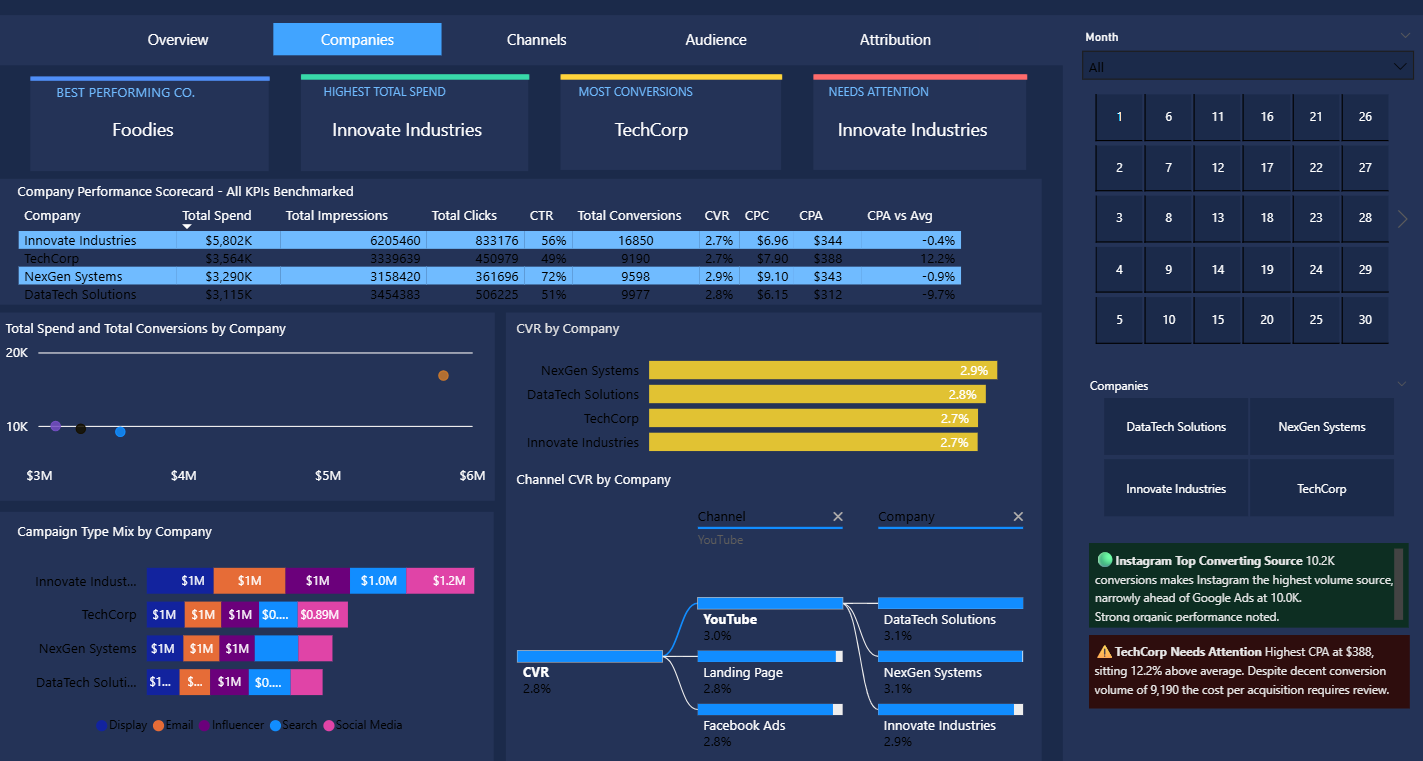

Layout of this report page (visuals, bound fields, positions):
{"tool":"powerbi","page":{"name":"Companies","canvas":[1280,720],"ordinal":1},"visuals":[{"type":"card","title":"BEST PERFORMING CO.","fields":{"Values":["CalcMeasures.Best Company CPA"]},"box":[46.7,104.1,165.2,71.8],"z":0},{"type":"card","title":"HIGHEST TOTAL SPEND","fields":{"Values":["CalcMeasures.Highest Spend Company"]},"box":[286.4,104.1,159.8,71.8],"z":1000},{"type":"card","title":"NEEDS ATTENTION","fields":{"Values":["CalcMeasures.Most Conversions Company"]},"box":[739.8,104.1,160.7,71.8],"z":2000},{"type":"card","title":"MOST CONVERSIONS","fields":{"Values":["CalcMeasures.Worst Company CPA"]},"box":[515.3,104.1,140.9,71.8],"z":3000},{"type":"tableEx","title":"Company Performance Scorecard - All KPIs Benchmarked","fields":{"Values":["Dim_Company.Company","CalcMeasures.Total Spend","CalcMeasures.Total Impressions","CalcMeasures.Total Clicks","CalcMeasures.CTR","CalcMeasures.Total Conversions","CalcMeasures.CVR","CalcMeasures.CPC","CalcMeasures.CPA","CalcMeasures.CPA vs Avg"]},"box":[11.7,193,869,115.8],"z":4000},{"type":"barChart","fields":{"Y":["CalcMeasures.CVR"],"Category":["Dim_Company.Company"]},"box":[459.7,316,473.1,132.9],"z":5000},{"type":"scatterChart","fields":{"X":["CalcMeasures.Total Spend"],"Y":["CalcMeasures.Total Conversions"],"Category":["Dim_Company.Company"]},"box":[0.9,316,440.8,158.9],"z":6000},{"type":"barChart","title":"Campaign Type Mix by Company","fields":{"Category":["Dim_Company.Company"],"Series":["Dim_CampaignType.Campaign_Type"],"Y":["CalcMeasures.Total Spend"]},"box":[11.7,498.3,430,200.2],"z":7000},{"type":"slicer","fields":{"Values":["Date_Dim.Day"]},"box":[962.4,111.3,317.8,248.7],"z":8000},{"type":"slicer","fields":{"Values":["Date_Dim.Month Name"]},"box":[962.4,51.2,317.8,56.6],"z":9000},{"type":"decompositionTreeVisual","title":"Platform CVR by Company","fields":{"ExplainBy":["Dim_Platform.Platfrom","Dim_Company.Company"],"Analyze":["CalcMeasures.CVR"]},"box":[459.7,451.6,480.3,268.4],"z":10000},{"type":"pageNavigator","box":[85.3,50.3,795.4,29.6],"z":11000},{"type":"slicer","fields":{"Values":["Dim_Company.Company"]},"box":[962.4,360,317.8,136.5],"z":12000},{"type":"textbox","box":[978.6,517.1,287.3,76.3],"z":13000},{"type":"textbox","box":[978.6,599.7,288.2,65.5],"z":14000}]}

Visuals, with their boxes on the page's 1280x720 design canvas (x1, y1, x2, y2). These are canvas units, not pixel positions in the 1423x761 screenshot, which may show the page scaled, cropped or inside an application window:
"BEST PERFORMING CO." card: {"left": 47, "top": 104, "right": 212, "bottom": 176}
"HIGHEST TOTAL SPEND" card: {"left": 286, "top": 104, "right": 446, "bottom": 176}
"NEEDS ATTENTION" card: {"left": 740, "top": 104, "right": 900, "bottom": 176}
"MOST CONVERSIONS" card: {"left": 515, "top": 104, "right": 656, "bottom": 176}
"Company Performance Scorecard - All KPIs Benchmarked" tableEx: {"left": 12, "top": 193, "right": 881, "bottom": 309}
barChart - CalcMeasures.CVR x Dim_Company.Company: {"left": 460, "top": 316, "right": 933, "bottom": 449}
scatterChart - CalcMeasures.Total Spend x CalcMeasures.Total Conversions: {"left": 1, "top": 316, "right": 442, "bottom": 475}
"Campaign Type Mix by Company" barChart: {"left": 12, "top": 498, "right": 442, "bottom": 698}
slicer - Date_Dim.Day: {"left": 962, "top": 111, "right": 1280, "bottom": 360}
slicer - Date_Dim.Month Name: {"left": 962, "top": 51, "right": 1280, "bottom": 108}
"Platform CVR by Company" decompositionTreeVisual: {"left": 460, "top": 452, "right": 940, "bottom": 720}
pageNavigator: {"left": 85, "top": 50, "right": 881, "bottom": 80}
slicer - Dim_Company.Company: {"left": 962, "top": 360, "right": 1280, "bottom": 496}
textbox: {"left": 979, "top": 517, "right": 1266, "bottom": 593}
textbox: {"left": 979, "top": 600, "right": 1267, "bottom": 665}
